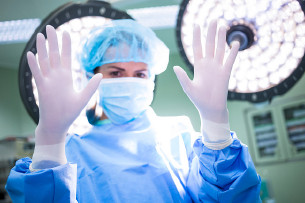face_mask: (94, 62, 150, 122)
